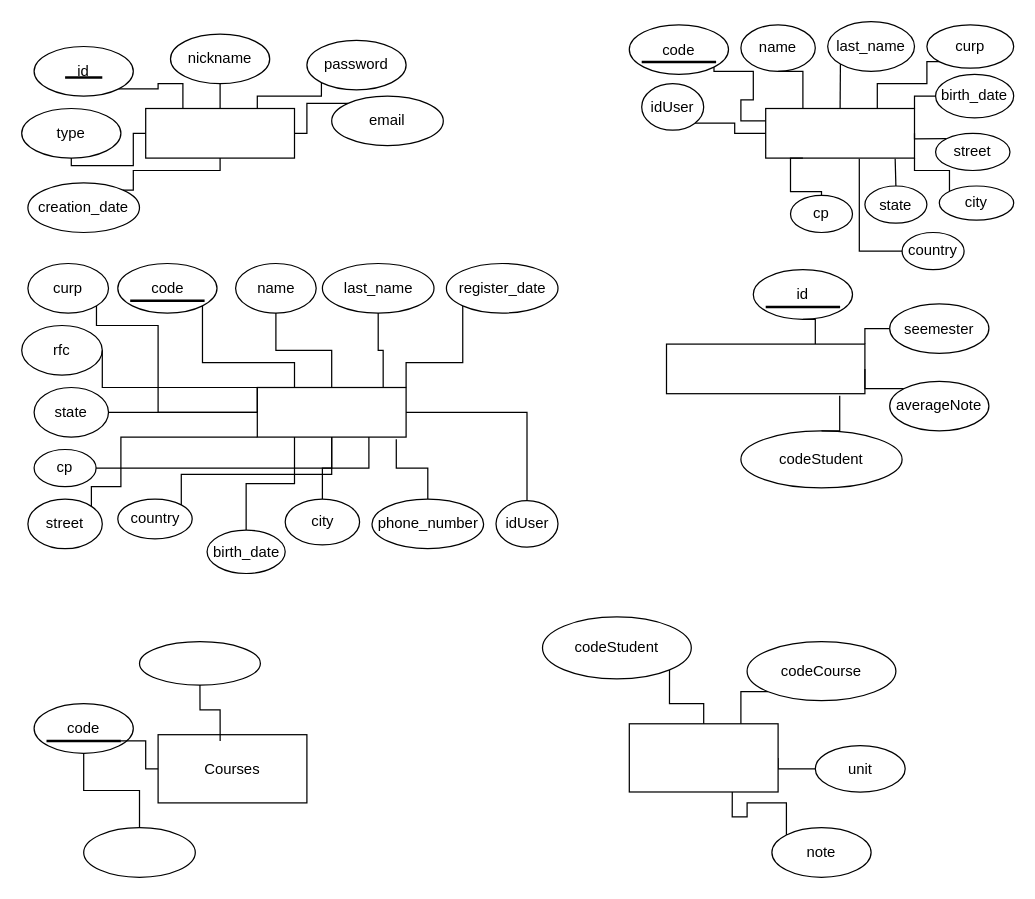
Image size: 1035x899. Some labels were removed from this diagram. Each missing label, with the centre of its shape:
codeTeacher: point (138, 851)
name_course: point (199, 662)
Notes: point (703, 757)
Students: point (839, 132)
Students_academic_info: point (765, 368)
Teachers: point (331, 411)
Users: point (219, 132)
